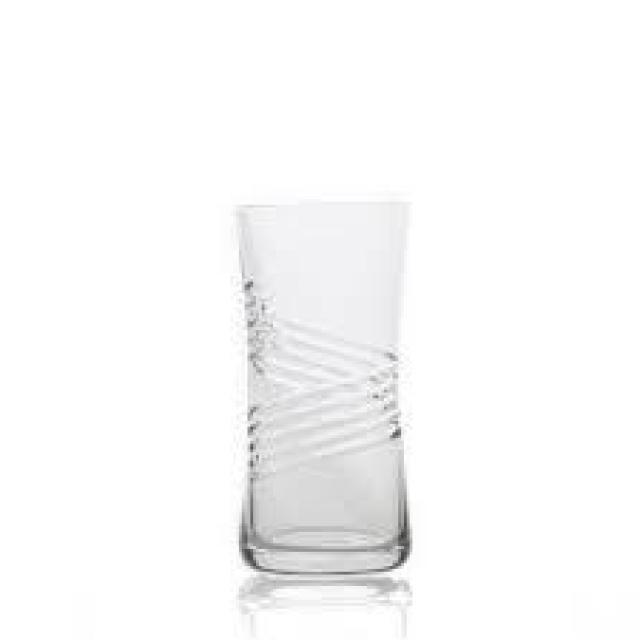glass: (225, 192, 424, 587)
